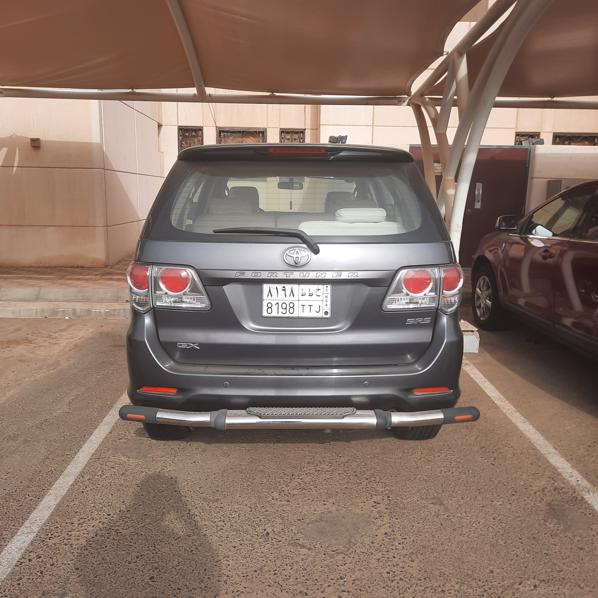numberplate: (261, 281, 332, 318)
